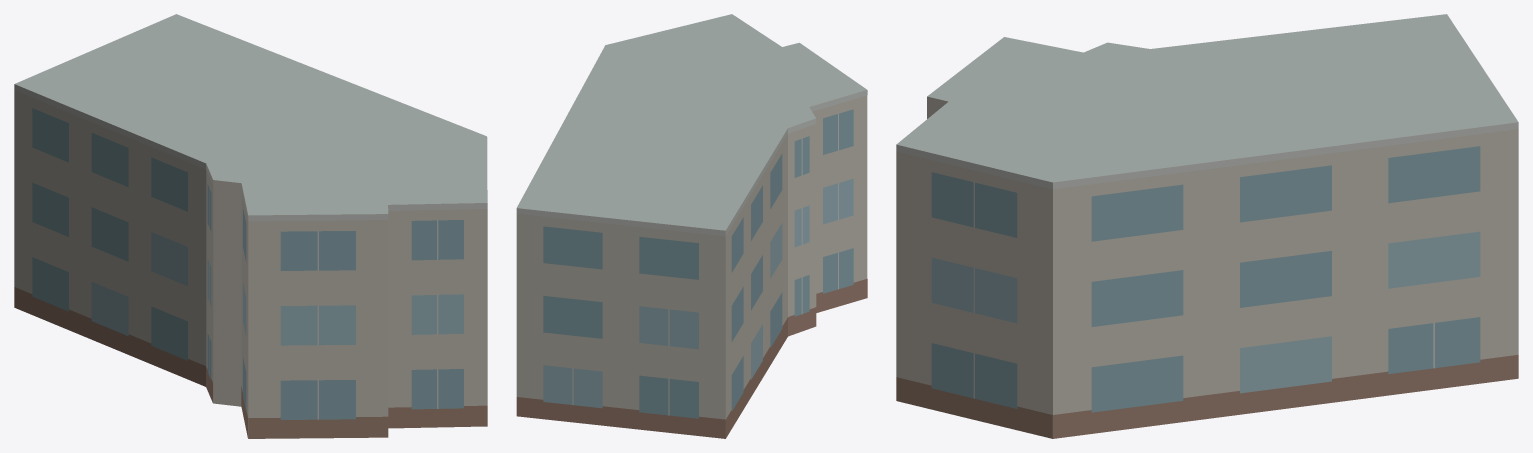
File: survey-upis-32599088.glb
3 views of the same model, side by side, from view 1: azimuth 30°, elevation 25°; view 2: azimuth 150°, elevation 25°; view 3: azimuth 270°, elevation 25° (orthographic). The views are drawn at different scales.
Parts seen in each view (by area): view 1: survey-upis-32599088.tmp; view 2: survey-upis-32599088.tmp; view 3: survey-upis-32599088.tmp.
Boxes of the visible parts, left/top/right/bottom form: survey-upis-32599088.tmp: left=14, top=14, right=487, bottom=438; survey-upis-32599088.tmp: left=516, top=14, right=867, bottom=438; survey-upis-32599088.tmp: left=896, top=14, right=1518, bottom=438.
Bounding box in the file's own units: 12.91 × 9.15 × 20.14.
